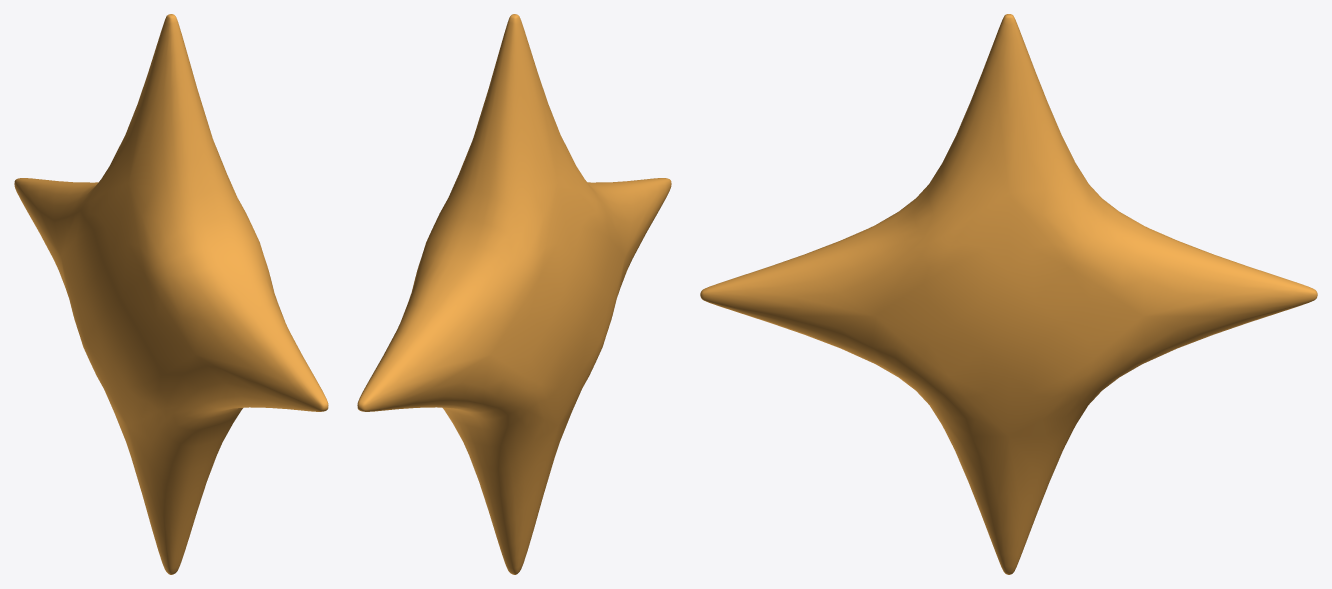
File: star.fbx
3 renders of one model, left to right at view 1: azimuth 30°, elevation 25°; view 2: azimuth 150°, elevation 25°; view 3: azimuth 270°, elevation 25°, orthographic.
Visible parts, largest first — view 1: Cube.005; view 2: Cube.005; view 3: Cube.005.
Boxes of the visible parts, x1,y1,x2,y2 form: Cube.005: (14, 14, 328, 574); Cube.005: (357, 14, 671, 574); Cube.005: (700, 14, 1317, 574).
Bounding box in the file's own units: 32.78 × 137 × 137.
